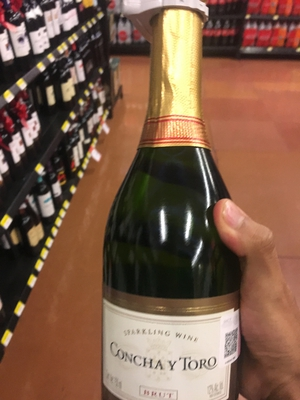brut: (96, 8, 238, 400)
